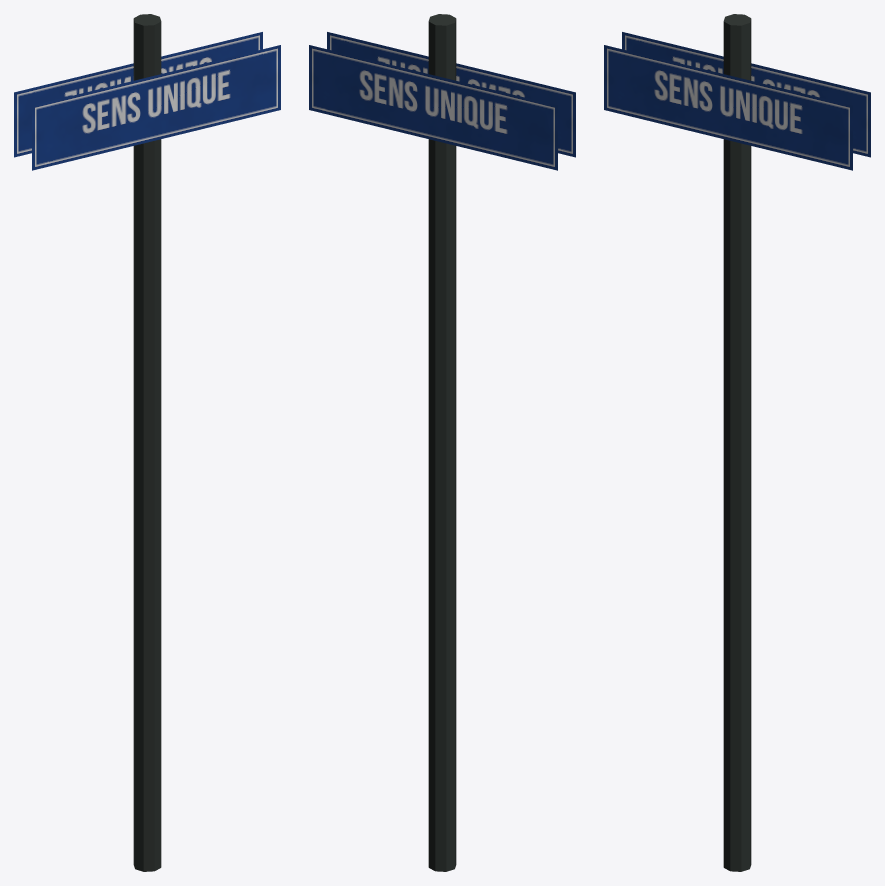
File: Prop_SignOneWay.fbx
3 renders of one model, left to right at view 1: azimuth 30°, elevation 25°; view 2: azimuth 150°, elevation 25°; view 3: azimuth 330°, elevation 25°, orthographic.
Parts seen in each view (by area): view 1: Prop_SignOneWay; view 2: Prop_SignOneWay; view 3: Prop_SignOneWay.
Part boxes in pixels (<box>): Prop_SignOneWay: <box>14,14,280,871</box>; Prop_SignOneWay: <box>309,14,575,871</box>; Prop_SignOneWay: <box>604,14,870,871</box>.
Bounding box in the file's own units: 0.8 × 2.6 × 0.1.
